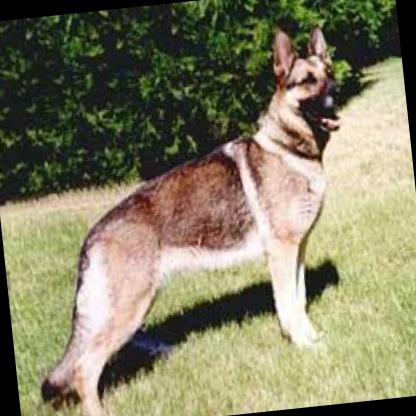German_shepherd: (3, 20, 377, 416)
